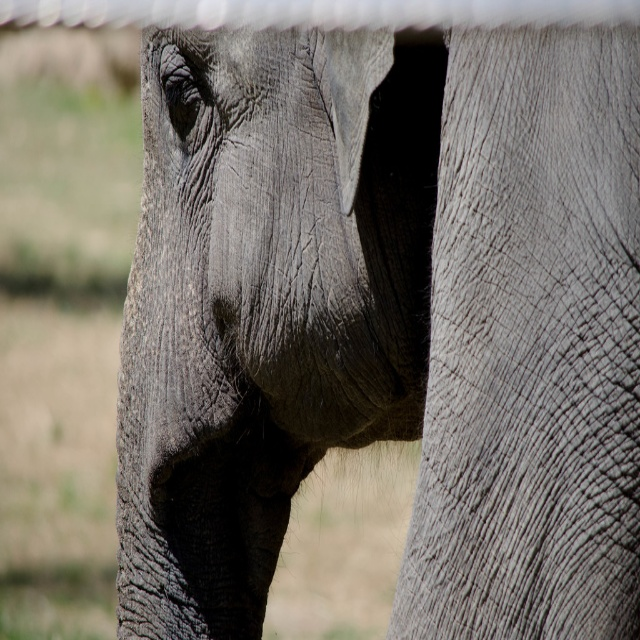Elephant: (114, 29, 640, 639)
